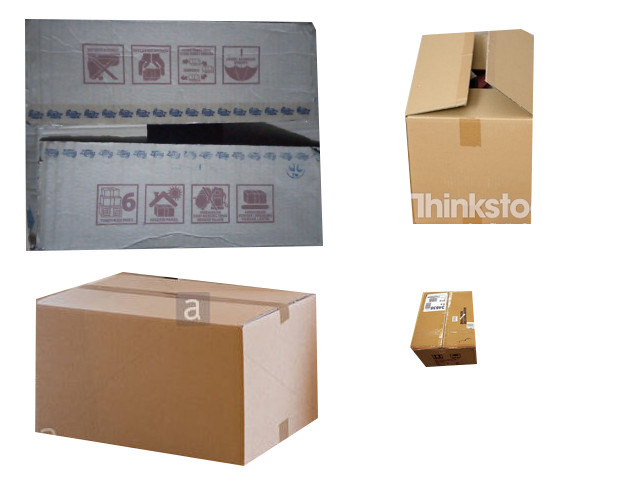cardboard: (25, 19, 322, 250), (38, 273, 317, 466), (408, 33, 531, 225), (410, 289, 478, 367), (506, 385, 597, 440)
